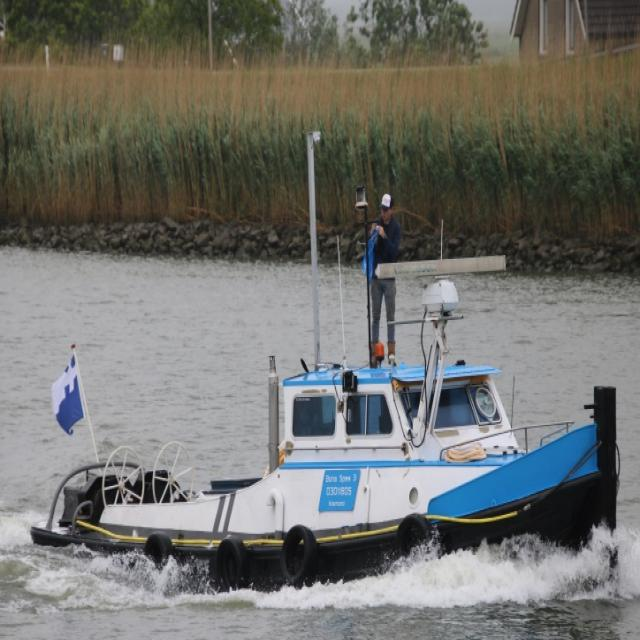tugboat: (28, 227, 631, 609)
